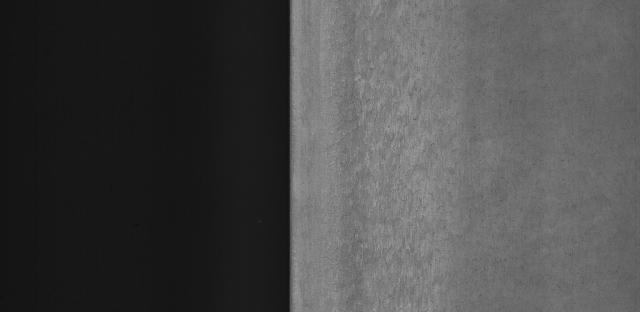silk_spot: (336, 23, 454, 301)
